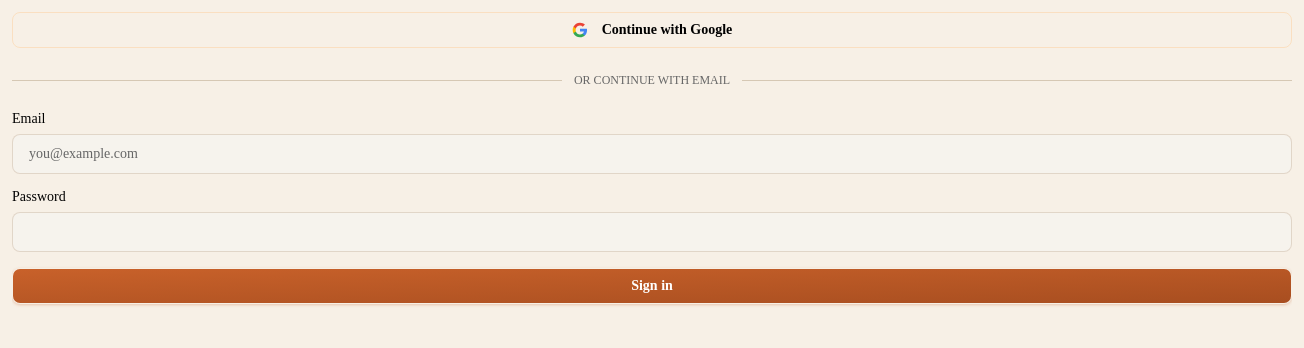
it: LoginForm › clears password error on input change
Type "test@example.com" into the field labelled "Email" at (652, 154), box [12,134,1292,174]
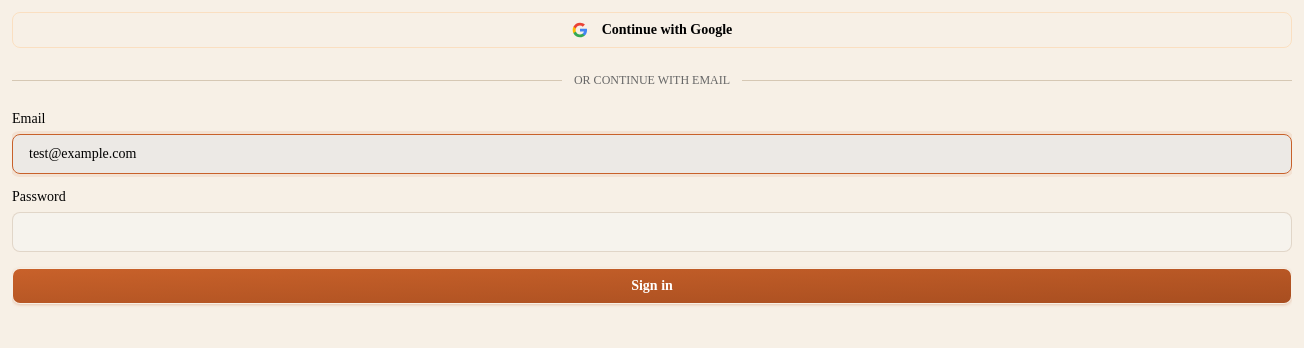
Click the button "Sign in" at (652, 286), box [12,268,1292,304]
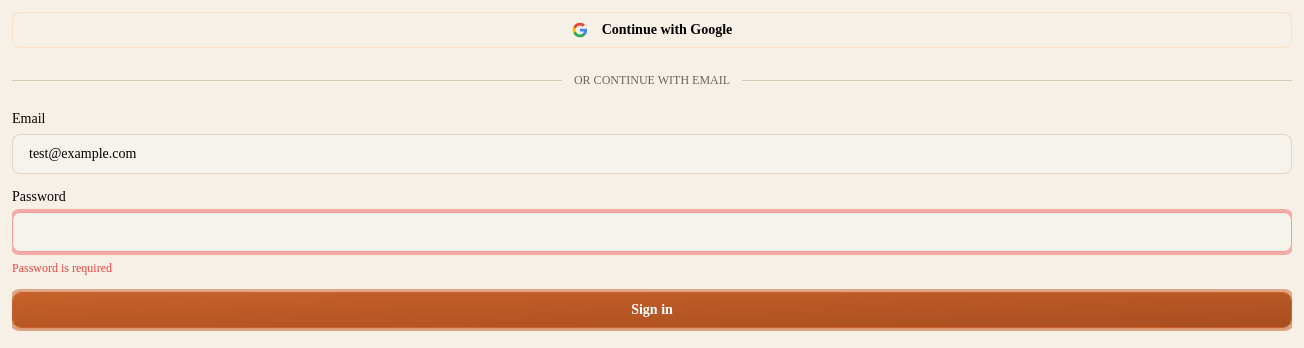
Expected: the text "Password is required" is shown, [12,261,112,275]
Type "a" into the password field labelled "Password" at (652, 232), box [12,212,1292,252]
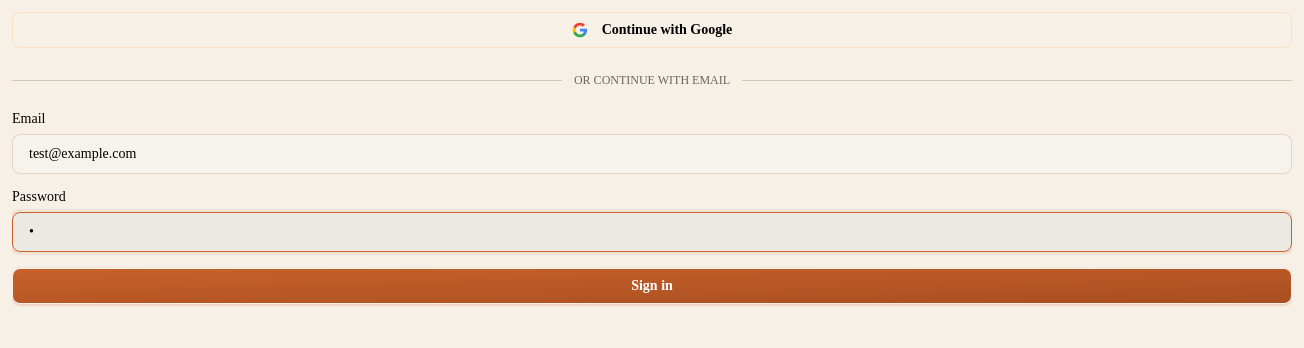
Expected: the text "Password is required" is gone
